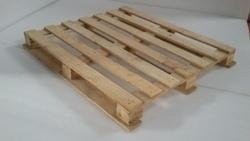pallet: (18, 4, 240, 139)
